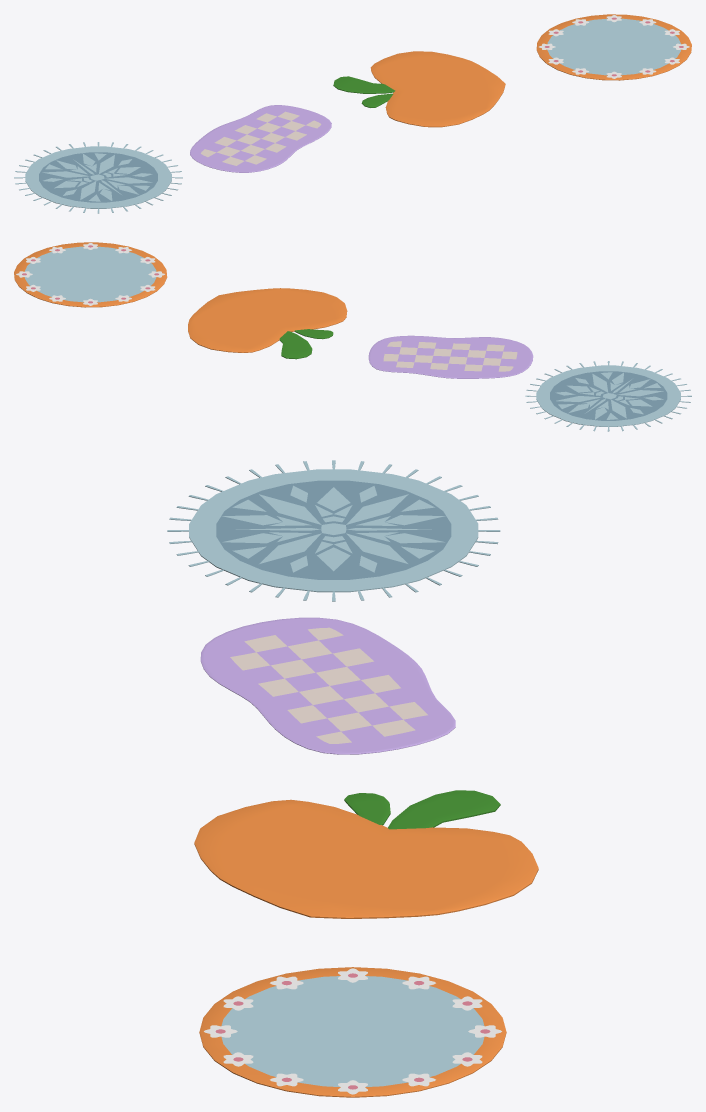
File: Rug.fbx
The picture shows the model from 3 angles, top to bottom: view 1: azimuth 30°, elevation 25°; view 2: azimuth 150°, elevation 25°; view 3: azimuth 270°, elevation 25°; orthographic projection. The views are drawn at different scales.
Visible parts, largest first — view 1: Rug .003, Rug .001, Rug, Rug .002; view 2: Rug .003, Rug .001, Rug, Rug .002; view 3: Rug .003, Rug .001, Rug, Rug .002.
Boxes of the visible parts, <box> form: Rug .003: <box>333,51,505,127</box>; Rug .001: <box>536,14,691,80</box>; Rug: <box>14,142,182,213</box>; Rug .002: <box>190,105,331,172</box>; Rug .003: <box>188,288,347,359</box>; Rug .001: <box>14,242,167,307</box>; Rug: <box>525,361,691,431</box>; Rug .002: <box>368,335,533,378</box>; Rug .003: <box>194,790,538,918</box>; Rug .001: <box>199,967,506,1097</box>; Rug: <box>167,460,500,601</box>; Rug .002: <box>200,617,455,754</box>.
Bounding box in the file's own units: 1046 × 1.71 × 258.
